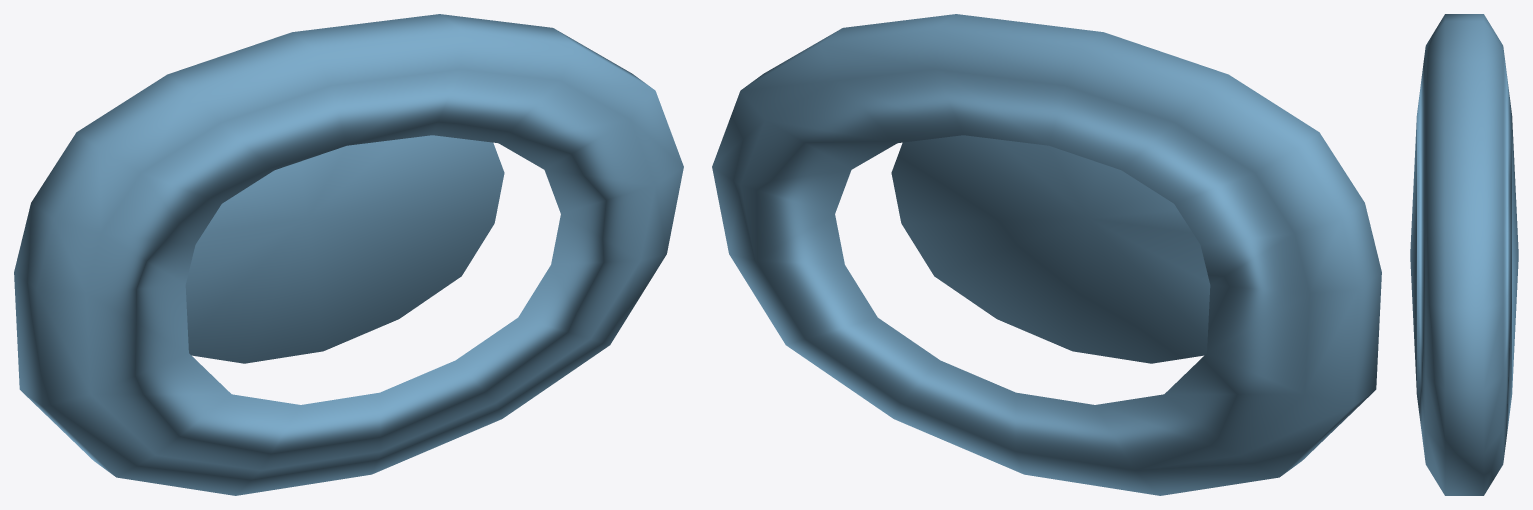
Rendered from sidecover.glb.
3 renders of one model, left to right at view 1: azimuth 30°, elevation 25°; view 2: azimuth 150°, elevation 25°; view 3: azimuth 270°, elevation 25°, orthographic. The views are drawn at different scales.
Parts seen in each view (by area): view 1: S51_Sidecover_HD; view 2: S51_Sidecover_HD; view 3: S51_Sidecover_HD.
Boxes of the visible parts, x1,y1,x2,y2 form: S51_Sidecover_HD: [14, 14, 683, 495]; S51_Sidecover_HD: [712, 14, 1381, 495]; S51_Sidecover_HD: [1410, 14, 1518, 495].
Size of the model in its own units: 1.14 by 0.74 by 0.196.
